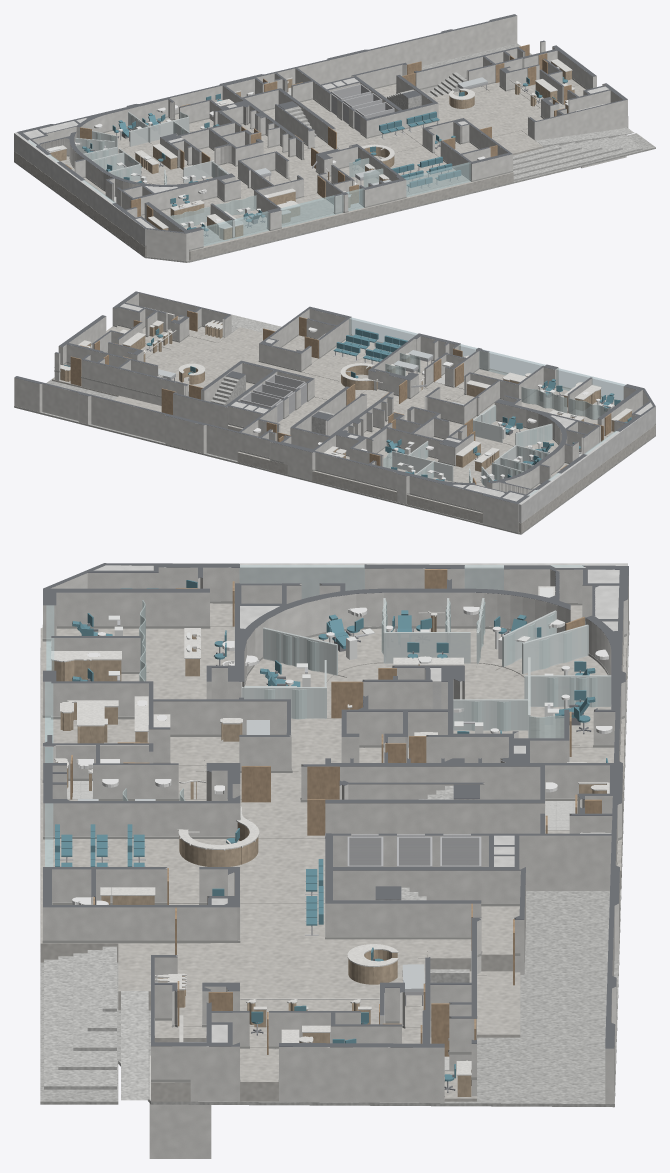
The model's file is maqueta.glb.
3 renders of one model, top to bottom at view 1: azimuth 30°, elevation 25°; view 2: azimuth 150°, elevation 25°; view 3: azimuth 270°, elevation 25°, orthographic. The views are drawn at different scales.
Visible parts, largest first — view 1: muros, muros_corte, piso_principal, vidrios, ductos, ambiente_36, mamparas, cortinas, mobiliario_mueble, escalinata_ingreso, mobiliario_tapiz, losa_base (+20 smaller); view 2: muros, muros_corte, piso_principal, ductos, mamparas, cortinas, vidrios, ambiente_36, mobiliario_mueble, mobiliario_tapiz, mobiliario_cubierta, losa_base (+16 smaller); view 3: muros, muros_corte, losa_base, ambiente_36, mamparas, cortinas, escalinata_ingreso, ductos, mobiliario_cubierta, mobiliario_mueble, mobiliario_tapiz, ambiente_39 (+28 smaller).
Part boxes in pixels (x1=…): muros: x1=32, y1=16, x2=627, y2=261; muros_corte: x1=17, y1=14, x2=627, y2=233; piso_principal: x1=14, y1=86, x2=628, y2=260; vidrios: x1=27, y1=140, x2=470, y2=246; ductos: x1=14, y1=78, x2=608, y2=246; ambiente_36: x1=402, y1=82, x2=543, y2=144; mamparas: x1=75, y1=111, x2=229, y2=184; cortinas: x1=76, y1=111, x2=383, y2=227; mobiliario_mueble: x1=50, y1=62, x2=574, y2=239; escalinata_ingreso: x1=513, y1=134, x2=642, y2=180; mobiliario_tapiz: x1=82, y1=77, x2=567, y2=230; losa_base: x1=14, y1=43, x2=655, y2=262; muros: x1=14, y1=293, x2=650, y2=532; muros_corte: x1=14, y1=291, x2=655, y2=503; piso_principal: x1=151, y1=335, x2=655, y2=532; ductos: x1=120, y1=303, x2=655, y2=523; mamparas: x1=392, y1=404, x2=552, y2=487; cortinas: x1=383, y1=353, x2=610, y2=485; vidrios: x1=349, y1=317, x2=625, y2=495; ambiente_36: x1=145, y1=336, x2=300, y2=391; mobiliario_mueble: x1=60, y1=322, x2=631, y2=471; mobiliario_tapiz: x1=64, y1=328, x2=631, y2=481; mobiliario_cubierta: x1=54, y1=320, x2=632, y2=462; losa_base: x1=14, y1=378, x2=655, y2=534; muros: x1=43, y1=565, x2=628, y2=1103; muros_corte: x1=43, y1=563, x2=628, y2=1048; losa_base: x1=40, y1=621, x2=629, y2=1107; ambiente_36: x1=205, y1=903, x2=471, y2=1027; mamparas: x1=241, y1=598, x2=611, y2=738; cortinas: x1=122, y1=600, x2=610, y2=800; escalinata_ingreso: x1=44, y1=946, x2=116, y2=1089; ductos: x1=94, y1=563, x2=627, y2=1042; mobiliario_cubierta: x1=51, y1=586, x2=611, y2=1075; mobiliario_mueble: x1=52, y1=616, x2=606, y2=1096; mobiliario_tapiz: x1=55, y1=580, x2=608, y2=1081; ambiente_39: x1=178, y1=718, x2=341, y2=838.
Bounding box in the file's own units: 40.61 × 4.46 × 20.81.
Materials: 21 (13 with a texture image).
